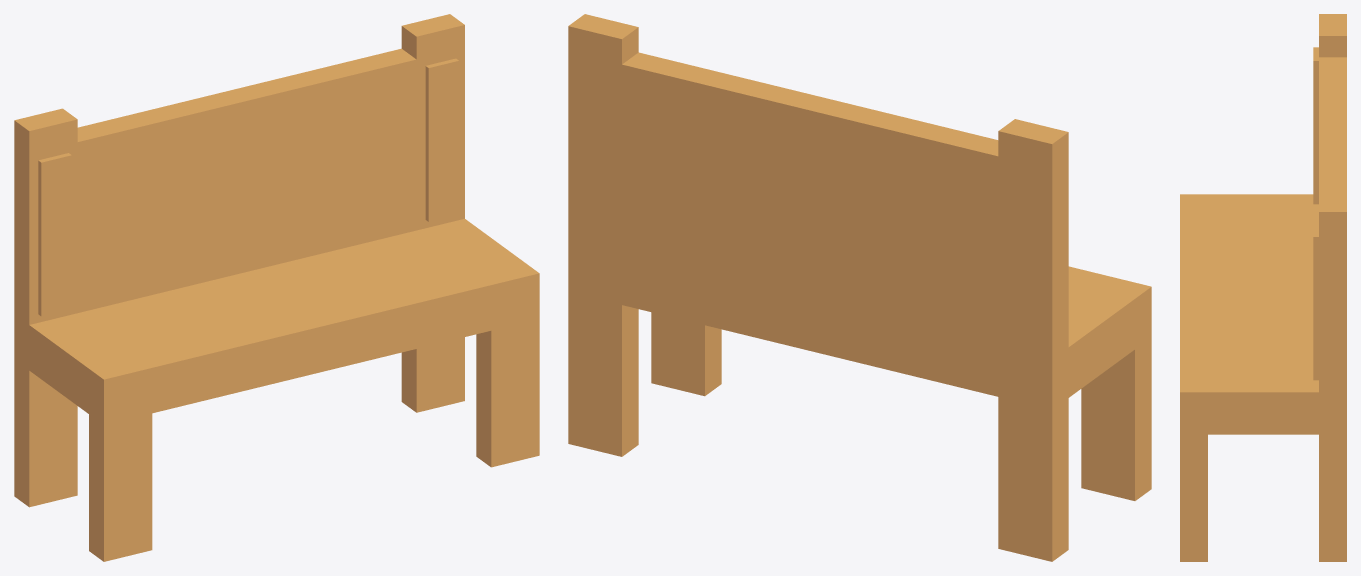
File: bench.gltf
3 renders of one model, left to right at view 1: azimuth 30°, elevation 25°; view 2: azimuth 150°, elevation 25°; view 3: azimuth 270°, elevation 25°, orthographic. The views are drawn at different scales.
Visible parts, largest first — view 1: bench; view 2: bench; view 3: bench.
Boxes of the visible parts, bbox=[...] form: bench: bbox=[14, 14, 539, 561]; bench: bbox=[568, 14, 1151, 561]; bench: bbox=[1180, 14, 1346, 561].
Size of the model in its own units: 4 by 3.3 by 1.42.
